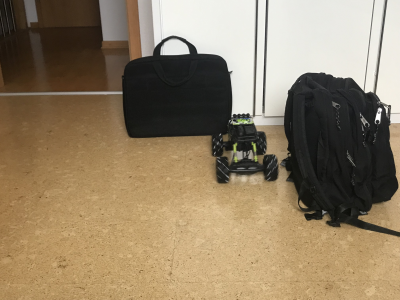remote control car: (208, 110, 282, 187)
